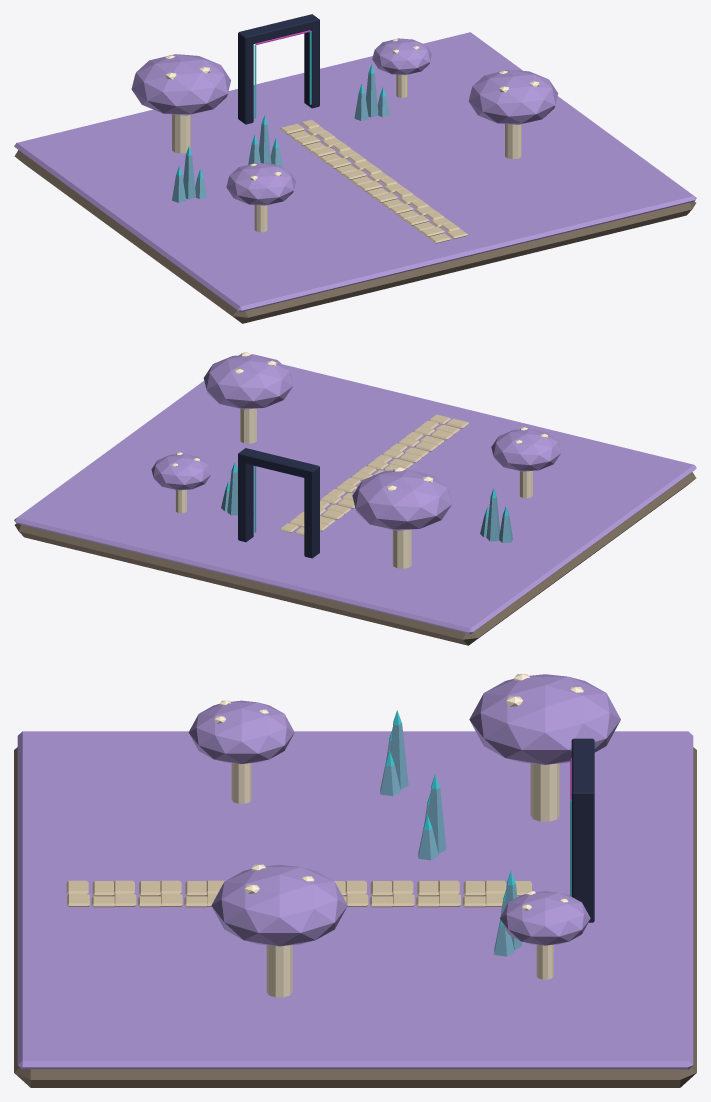
File: world-dream.glb
3 views of the same model, one above another, from view 1: azimuth 30°, elevation 25°; view 2: azimuth 150°, elevation 25°; view 3: azimuth 270°, elevation 25° (orthographic). The views are drawn at different scales.
Parts seen in each view (by area): view 1: terrain-top, terrain-stratum, mushroom-cap.003, mushroom-cap.002, mushroom-cap.001, mushroom-cap.004, portal-pillar.002, portal-lintel.001, portal-pillar.003, stem.003, stem.002; view 2: terrain-top, terrain-stratum, mushroom-cap.003, mushroom-cap.002, mushroom-cap.001, mushroom-cap.004, portal-pillar.002, portal-pillar.003, portal-lintel.001, stem.003, stem.002, crystal.010; view 3: terrain-top, terrain-stratum, mushroom-cap.003, mushroom-cap.002, mushroom-cap.001, mushroom-cap.004, portal-pillar.003, stem.003, portal-lintel.001, stem.002, stem.001, crystal.004 (+1 smaller).
Boxes of the visible parts, left/top/right/bottom form: terrain-top: left=14, top=32, right=696, bottom=312; terrain-stratum: left=14, top=150, right=695, bottom=323; mushroom-cap.003: left=131, top=54, right=230, bottom=115; mushroom-cap.002: left=468, top=69, right=558, bottom=124; mushroom-cap.001: left=226, top=162, right=295, bottom=205; mushroom-cap.004: left=372, top=38, right=431, bottom=75; portal-pillar.002: left=238, top=38, right=253, bottom=124; portal-lintel.001: left=238, top=14, right=319, bottom=44; portal-pillar.003: left=304, top=24, right=319, bottom=108; stem.003: left=172, top=114, right=190, bottom=153; stem.002: left=505, top=124, right=521, bottom=159; terrain-top: left=14, top=354, right=696, bottom=634; terrain-stratum: left=15, top=472, right=696, bottom=645; mushroom-cap.003: left=352, top=469, right=451, bottom=530; mushroom-cap.002: left=203, top=354, right=293, bottom=409; mushroom-cap.001: left=491, top=428, right=560, bottom=471; mushroom-cap.004: left=151, top=453, right=211, bottom=490; portal-pillar.002: left=304, top=472, right=319, bottom=558; portal-pillar.003: left=238, top=458, right=253, bottom=542; portal-lintel.001: left=238, top=448, right=319, bottom=478; stem.003: left=392, top=529, right=411, bottom=568; stem.002: left=240, top=408, right=256, bottom=443; crystal.010: left=486, top=497, right=499, bottom=541; terrain-top: left=17, top=731, right=693, bottom=1069; terrain-stratum: left=14, top=747, right=696, bottom=1087; mushroom-cap.003: left=469, top=674, right=620, bottom=764; mushroom-cap.002: left=211, top=864, right=347, bottom=946; mushroom-cap.001: left=188, top=700, right=294, bottom=763; mushroom-cap.004: left=500, top=891, right=590, bottom=945; portal-pillar.003: left=571, top=800, right=594, bottom=922; stem.003: left=530, top=763, right=559, bottom=821; portal-lintel.001: left=571, top=738, right=594, bottom=804; stem.002: left=266, top=945, right=292, bottom=997; stem.001: left=231, top=763, right=251, bottom=803; crystal.004: left=428, top=787, right=446, bottom=853.
Size of the model in its own units: 21 by 4.69 by 18.
